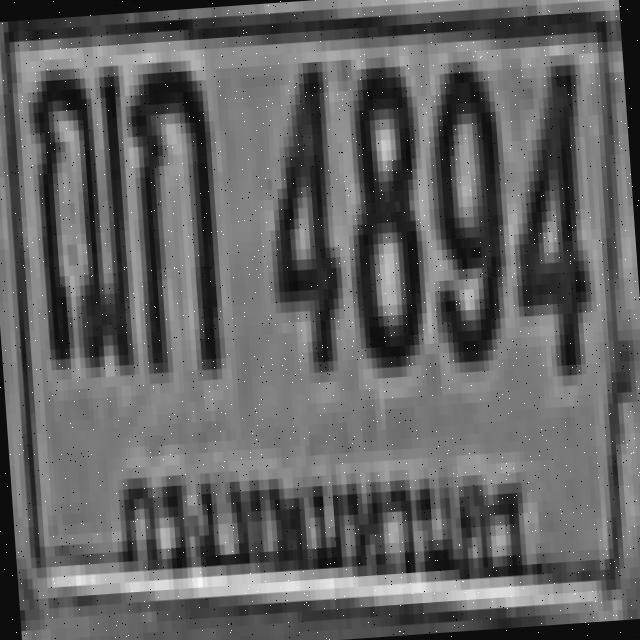10GorGai: (121, 49, 222, 374)
21ChorChoe: (22, 50, 136, 365)
4: (498, 49, 592, 363), (256, 52, 340, 364)
8: (336, 55, 425, 359)
9: (418, 50, 508, 364)
Bangkok: (110, 427, 534, 628)
